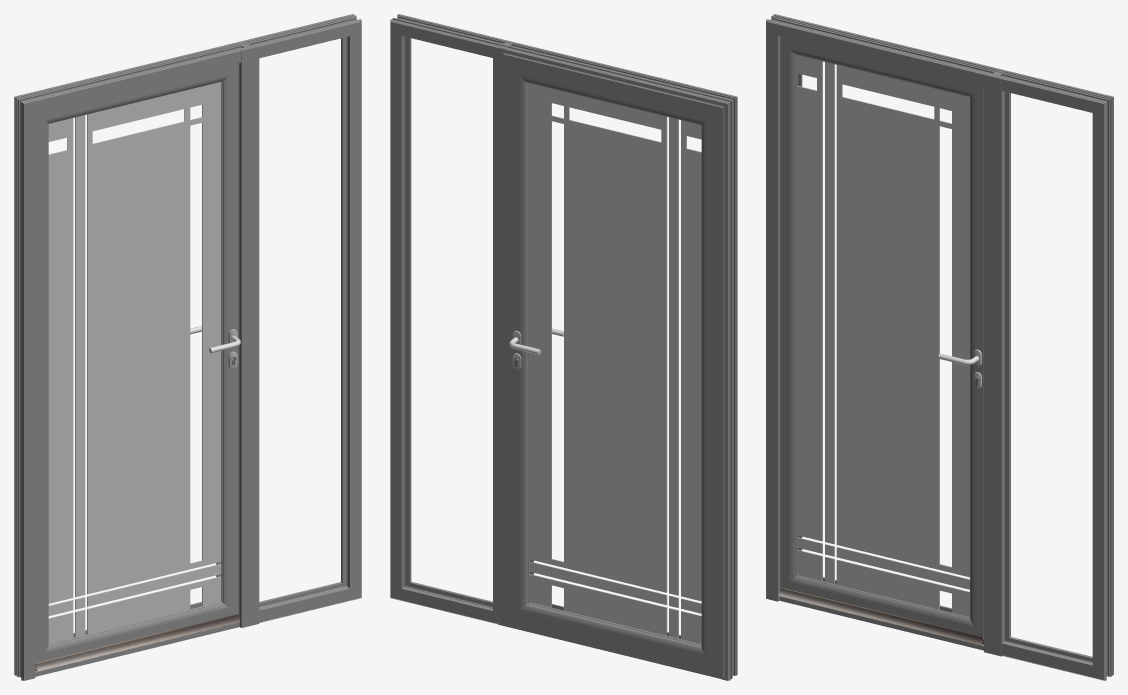
3 views of the same model, side by side, from view 1: azimuth 30°, elevation 25°; view 2: azimuth 150°, elevation 25°; view 3: azimuth 330°, elevation 25° (orthographic).
Parts seen in each view (by area): view 1: fosco_18, aroFixo, aroMovel, montanteCentral, bite, borracha, escovas, rodaPe; view 2: fosco_18, aroMovel, aroFixo, bite, montanteCentral, borracha, rodaPe; view 3: fosco_18, aroFixo, aroMovel, montanteCentral, bite, escovas, borracha, rodaPe.
Boxes of the visible parts, x1,y1,x2,y2 form: fosco_18: (48, 82, 221, 643); aroFixo: (14, 14, 361, 680); aroMovel: (35, 63, 238, 663); montanteCentral: (238, 42, 259, 627); bite: (259, 37, 346, 607); borracha: (259, 37, 345, 606); escovas: (35, 614, 240, 671); rodaPe: (35, 622, 239, 676); fosco_18: (529, 83, 701, 644); aroMovel: (503, 53, 724, 677); aroFixo: (390, 14, 737, 680); bite: (396, 29, 498, 617); montanteCentral: (498, 40, 518, 626); borracha: (404, 36, 492, 608); rodaPe: (505, 624, 721, 679); fosco_18: (797, 55, 969, 617); aroFixo: (766, 14, 1113, 680); aroMovel: (780, 37, 983, 638); montanteCentral: (984, 70, 1004, 656); bite: (1005, 91, 1092, 661); escovas: (778, 587, 983, 645); borracha: (1006, 92, 1092, 660); rodaPe: (779, 596, 983, 650).
Bounding box in the file's own units: 1320 × 2149 × 185.
9 materials, 4 textured.
